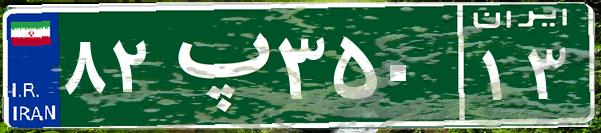0: (385, 28, 445, 110)
1: (475, 38, 525, 113)
2: (110, 28, 158, 105)
3: (273, 28, 330, 110), (525, 38, 570, 115)
5: (330, 28, 385, 110)
8: (57, 26, 110, 107)
پ: (158, 15, 273, 115)
